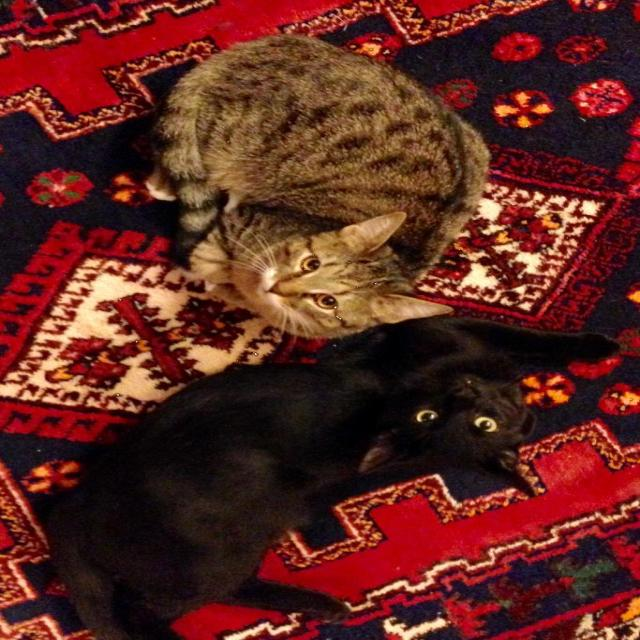Cat: (34, 312, 619, 638), (153, 31, 494, 337)
